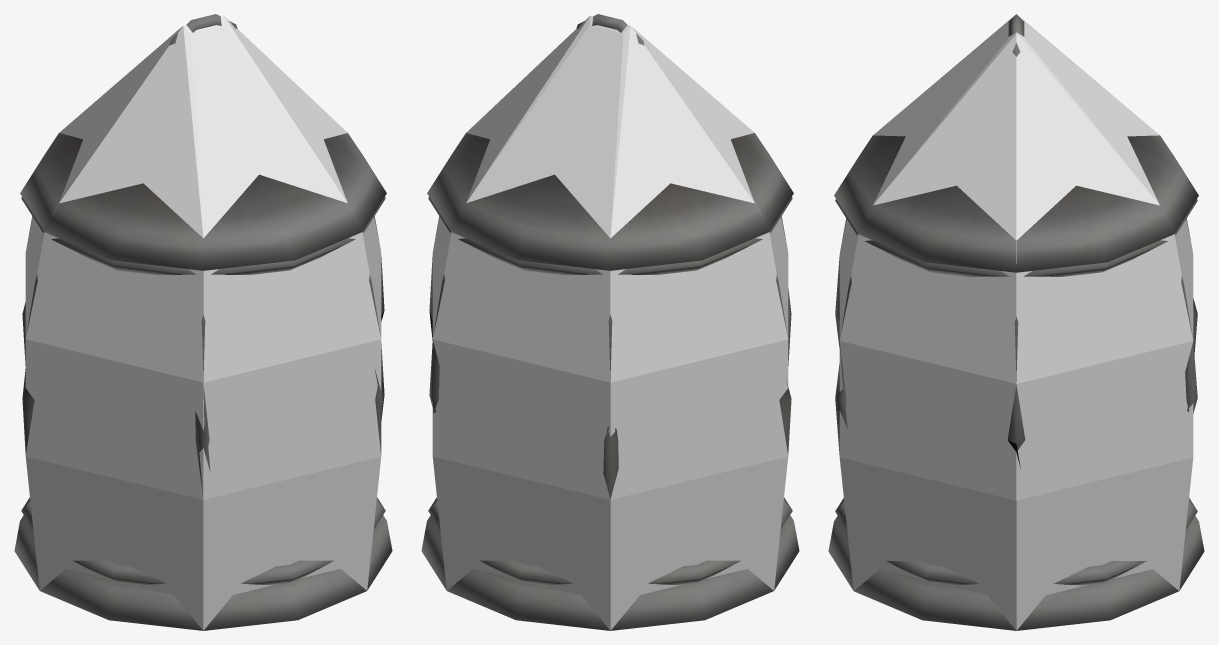
The model's file is lantern_cage.webp.glb.
The picture shows the model from 3 angles, left to right: view 1: azimuth 30°, elevation 25°; view 2: azimuth 150°, elevation 25°; view 3: azimuth 270°, elevation 25°; orthographic projection.
Parts seen in each view (by area): view 1: COL, LOD0_body; view 2: COL, LOD0_body; view 3: COL, LOD0_body.
Boxes of the visible parts, x1,y1,x2,y2 form: COL: [25, 16, 381, 630]; LOD0_body: [14, 14, 392, 630]; COL: [432, 16, 788, 630]; LOD0_body: [421, 14, 799, 630]; COL: [839, 15, 1193, 630]; LOD0_body: [828, 14, 1204, 630].
Size of the model in its own units: 0.376 by 0.5699 by 0.34.
Materials: 2 (1 with a texture image).
